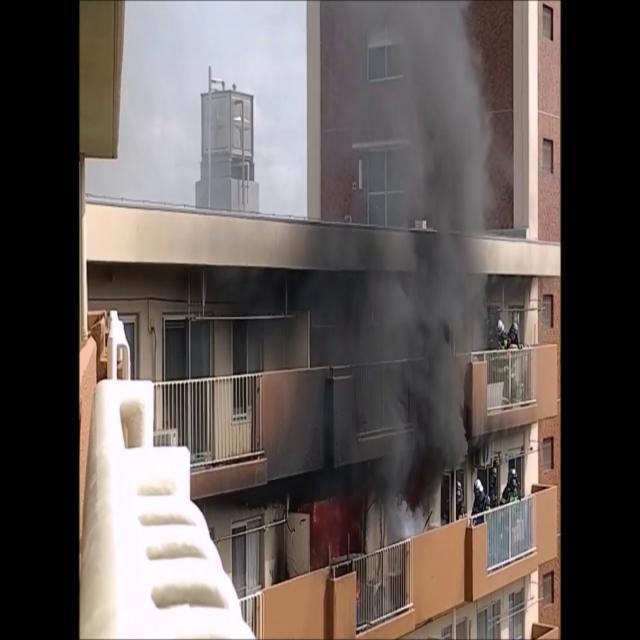Smoke: (310, 2, 496, 526)
